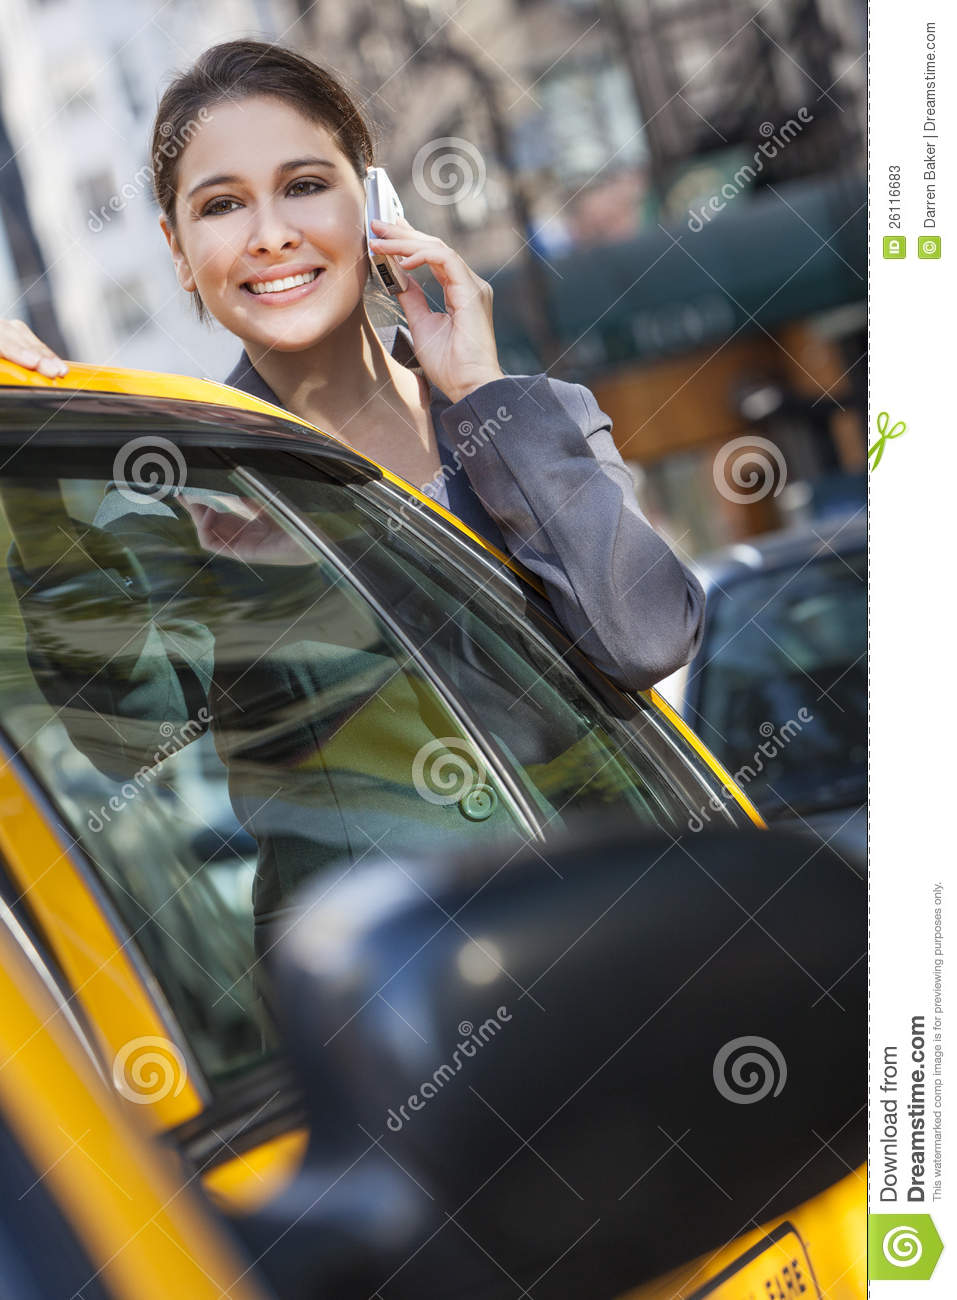phone: (360, 151, 409, 303)
talk: (179, 143, 505, 406)
